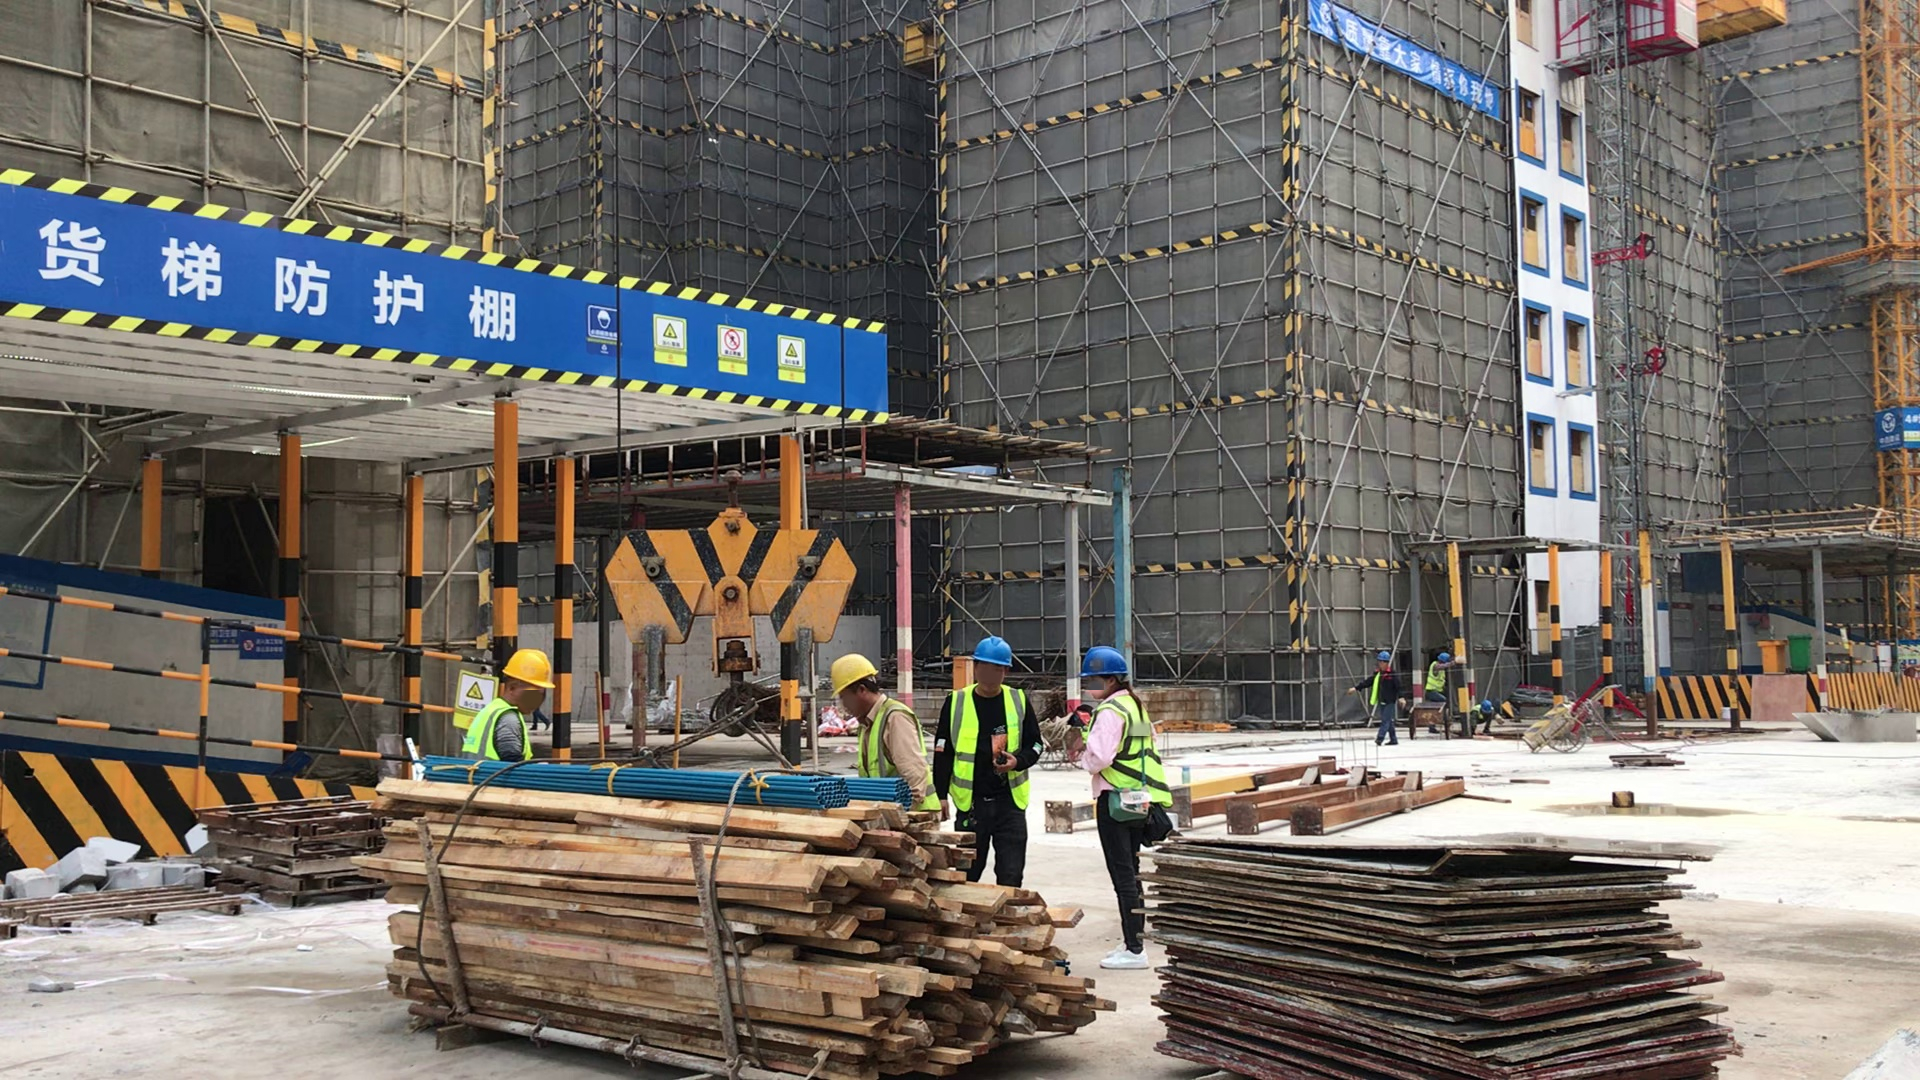helmet: (1079, 644, 1132, 680), (506, 649, 553, 690), (827, 652, 876, 683), (973, 635, 1016, 667), (1480, 700, 1493, 714), (1378, 651, 1390, 663), (1436, 653, 1449, 663)
person: (1063, 641, 1186, 972), (925, 634, 1040, 891), (811, 649, 939, 816), (457, 644, 568, 761), (1366, 649, 1403, 749), (1424, 648, 1456, 711), (1468, 701, 1504, 735), (530, 711, 555, 733)
vest: (944, 675, 1035, 812), (1097, 687, 1175, 814), (854, 698, 936, 816), (462, 696, 532, 765), (1424, 660, 1447, 692)
